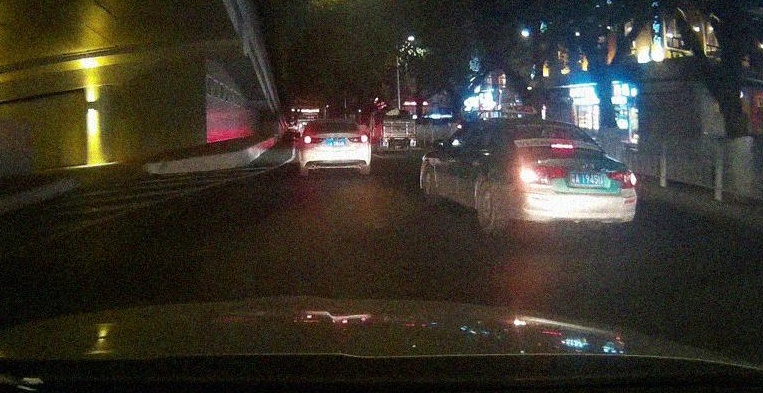L_light: (518, 165, 567, 182), (304, 135, 325, 143)
R_light: (605, 169, 637, 187), (348, 134, 368, 143)
T_light: (551, 143, 574, 149), (334, 123, 343, 125)
night-left: (489, 118, 638, 236)
night-no: (302, 118, 371, 177)
